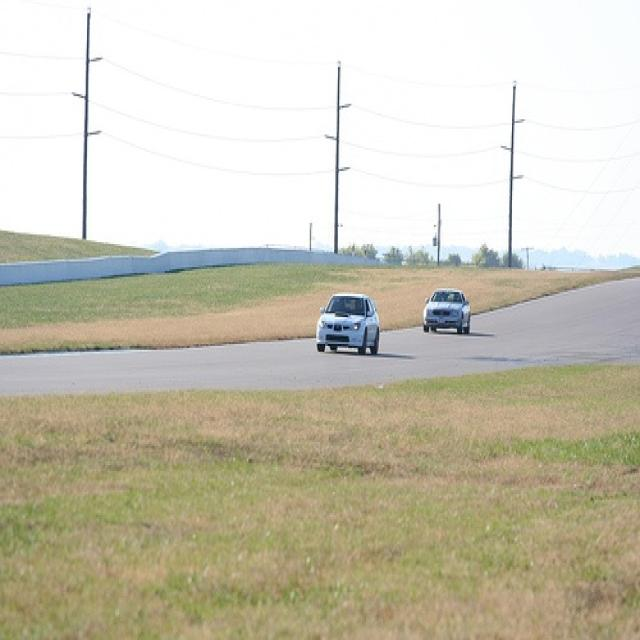car: (312, 286, 383, 359), (420, 285, 475, 340)
